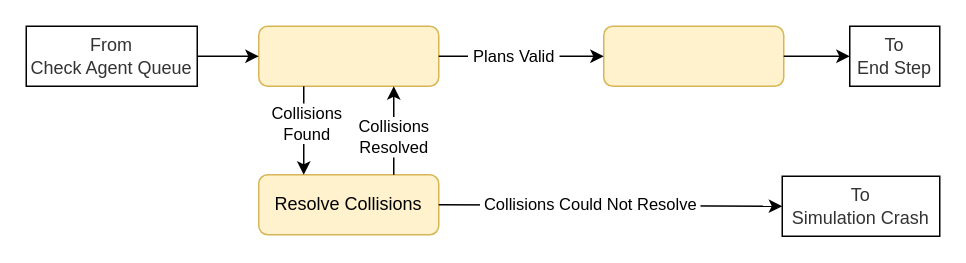
The diagram is 966 pixels wide and 263 high, and some of its shapes have lost their labels. The shapes that lost their labels are listed below. From the top down, each one's box as (x1, y1, x2, y2) in pixels, then its label:
(257, 25, 439, 86): Validate Plans
(602, 25, 784, 86): Execute Plans
